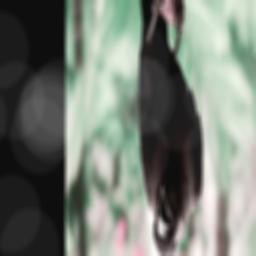Crow: (136, 0, 203, 256)
